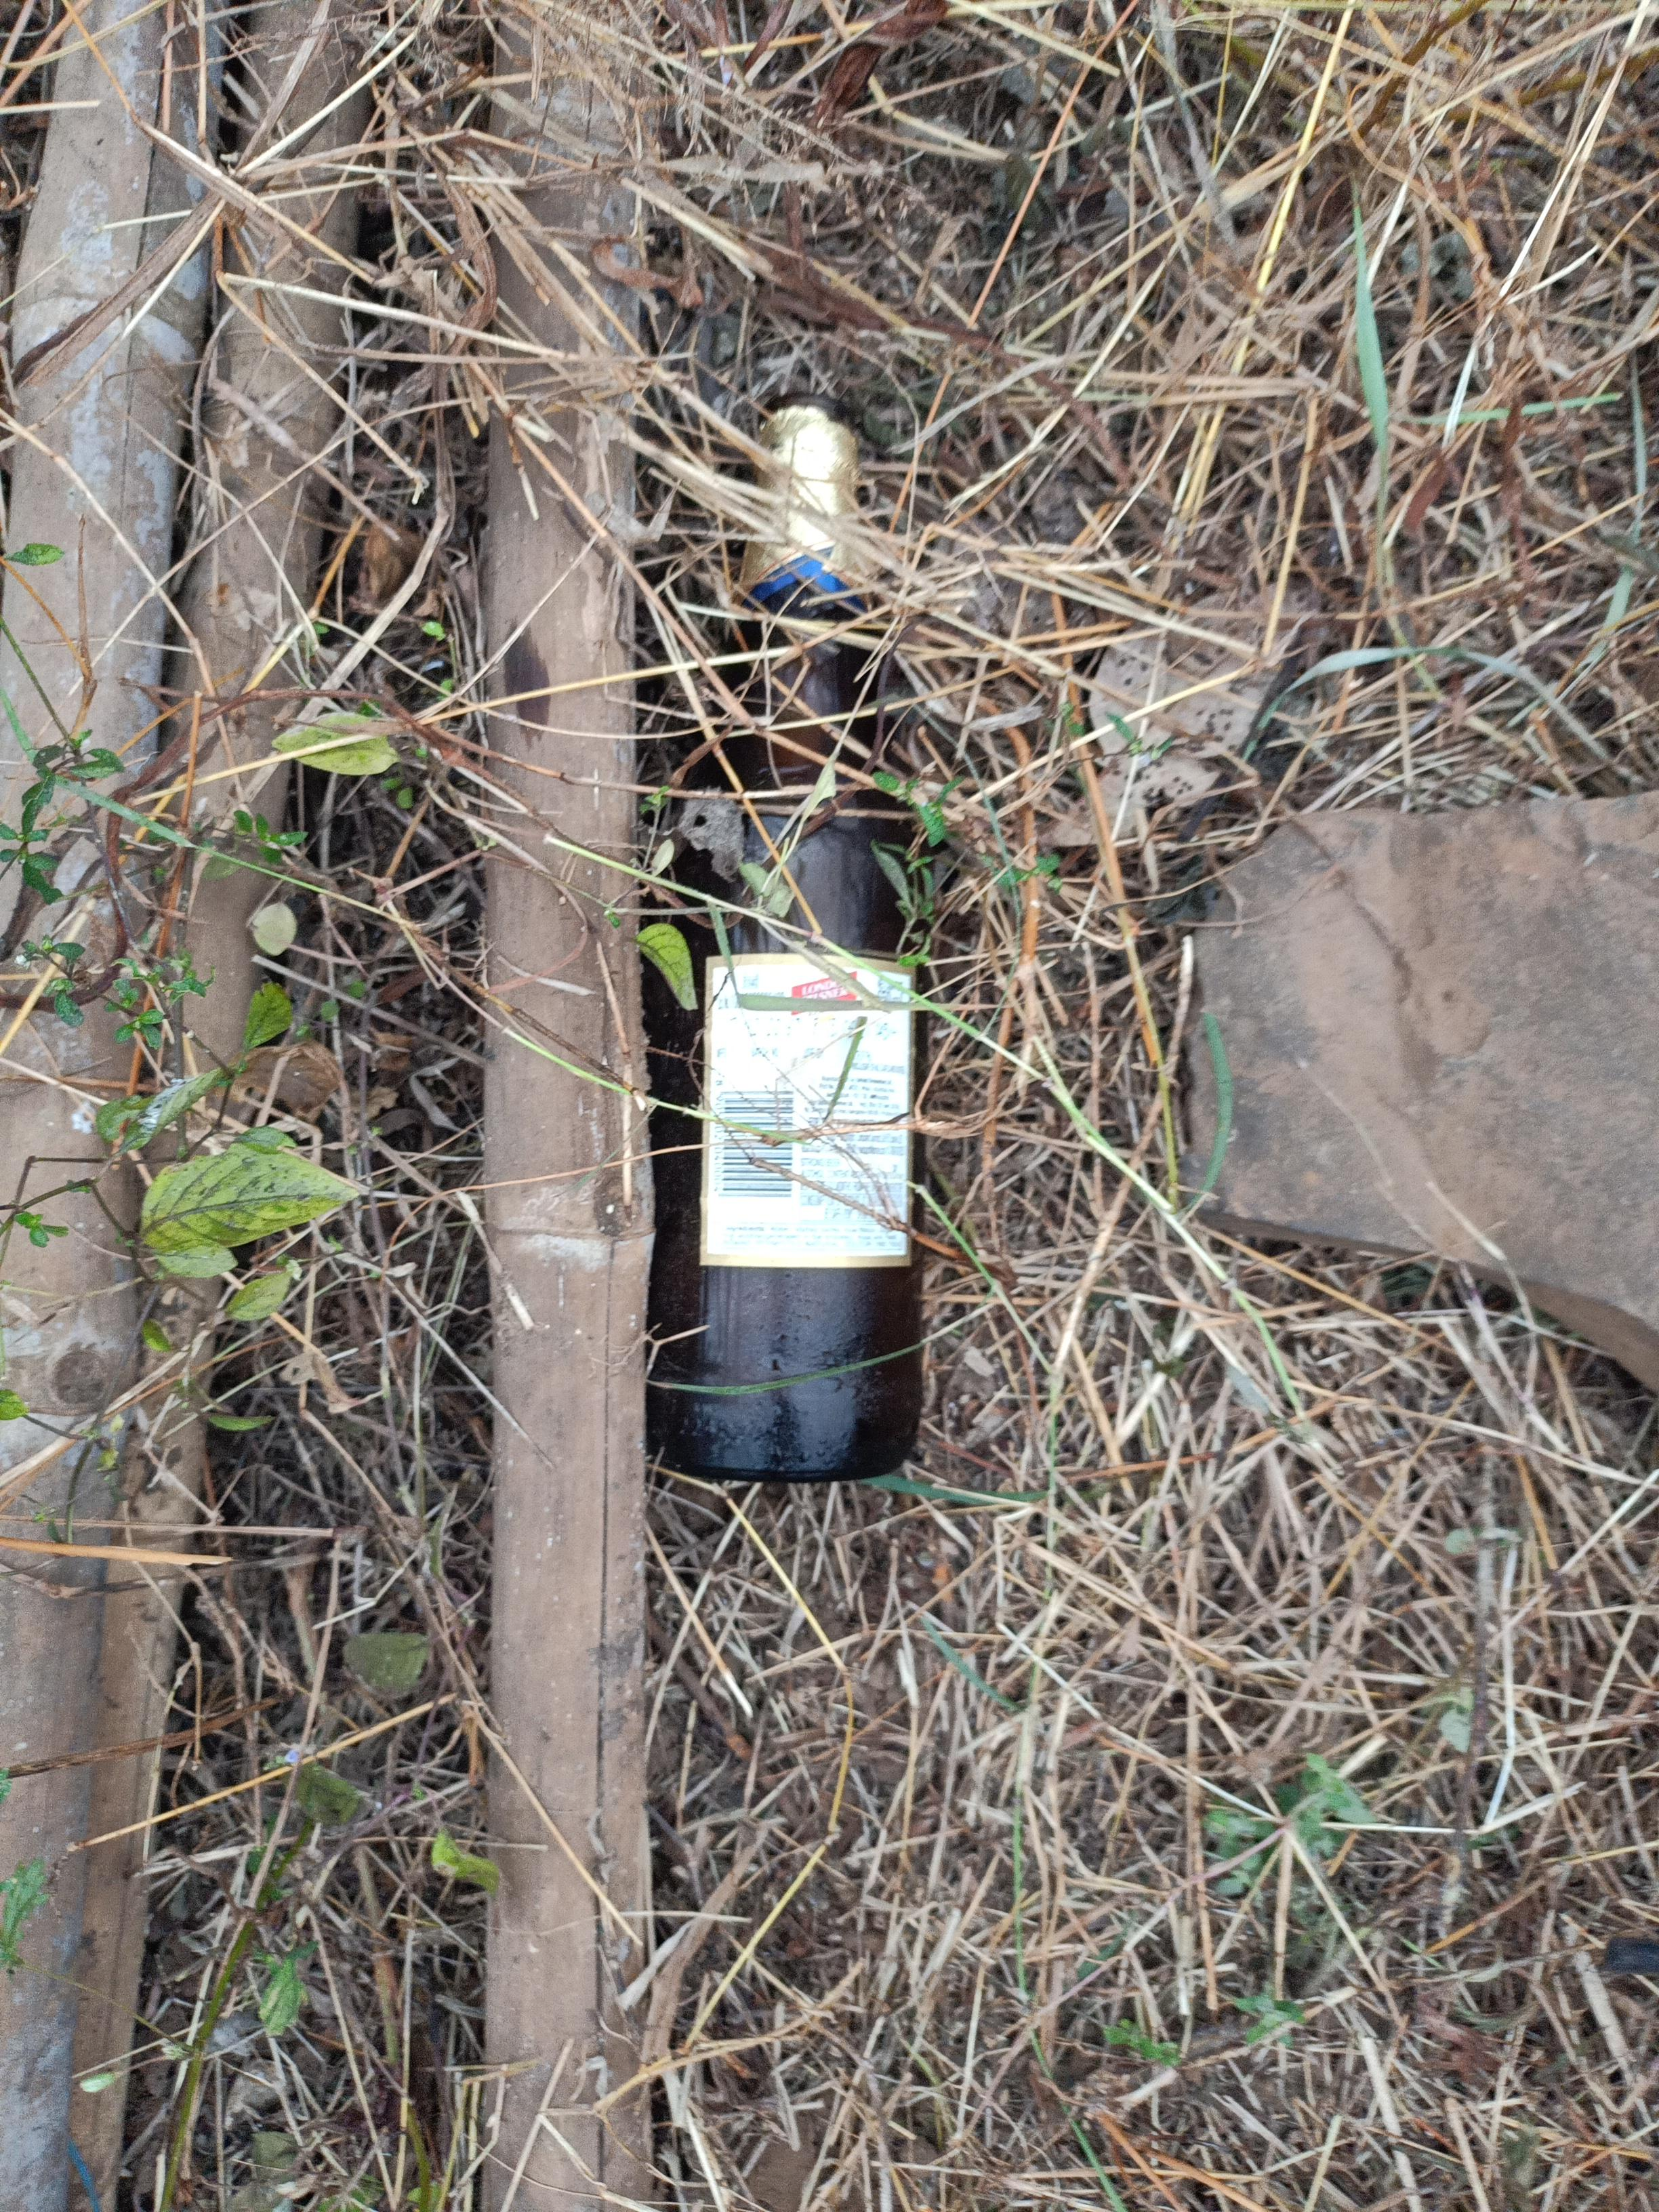dw: (638, 380, 945, 1500)
